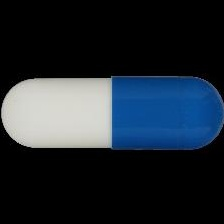76282-377: (0, 0, 224, 224)
